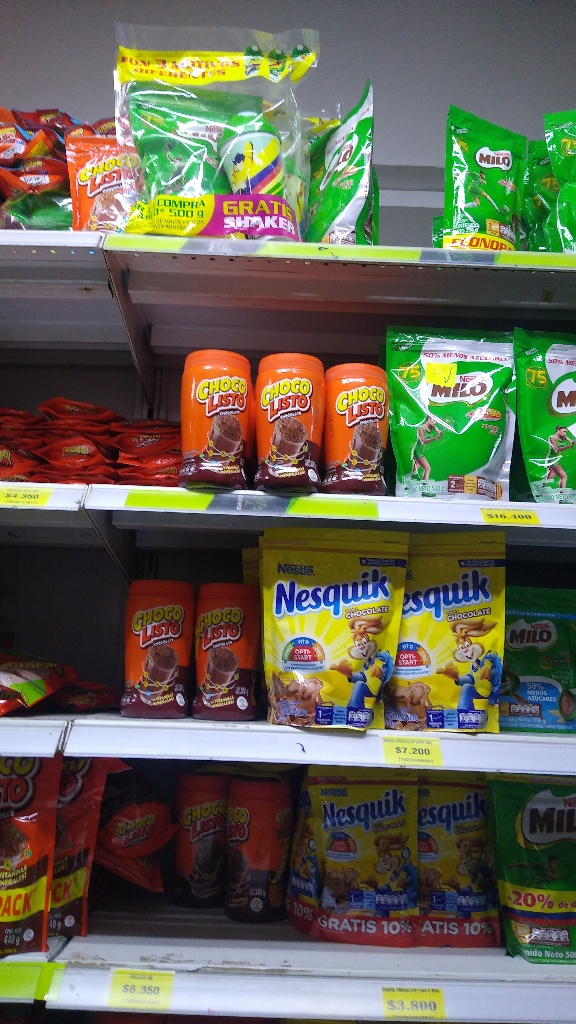COL0170103DYP44000: (1, 755, 62, 960)
COL0170103TRR30000: (174, 353, 252, 487)
COL0170203DYP25000: (439, 99, 528, 259)
COL0170203DYP50000: (117, 52, 229, 202)
COL0170205DYP20000: (501, 584, 571, 731)
COL0170205DYP50000: (302, 85, 382, 249)
